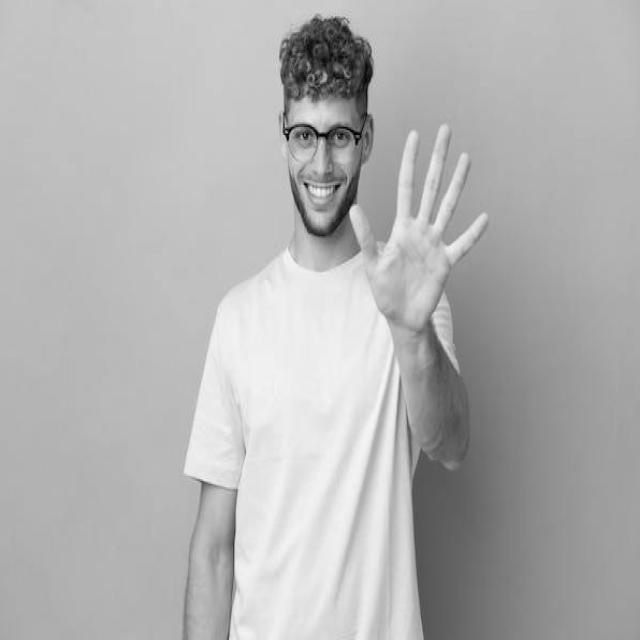stop: (346, 116, 496, 340)
